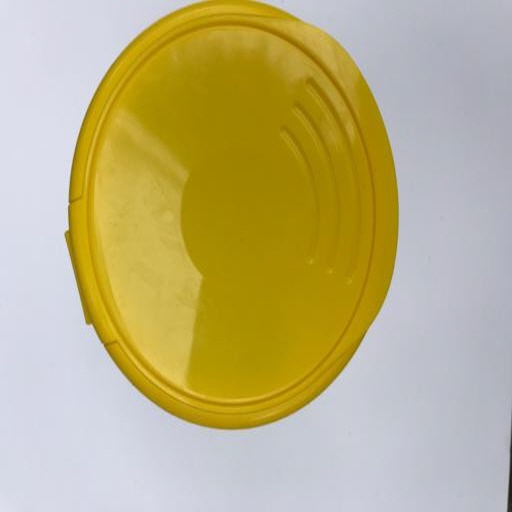Plastic_5: (61, 1, 398, 434)
